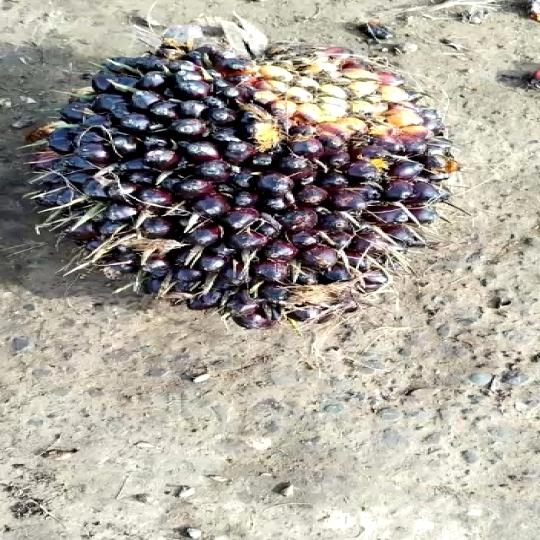mentah: (44, 19, 477, 341)
